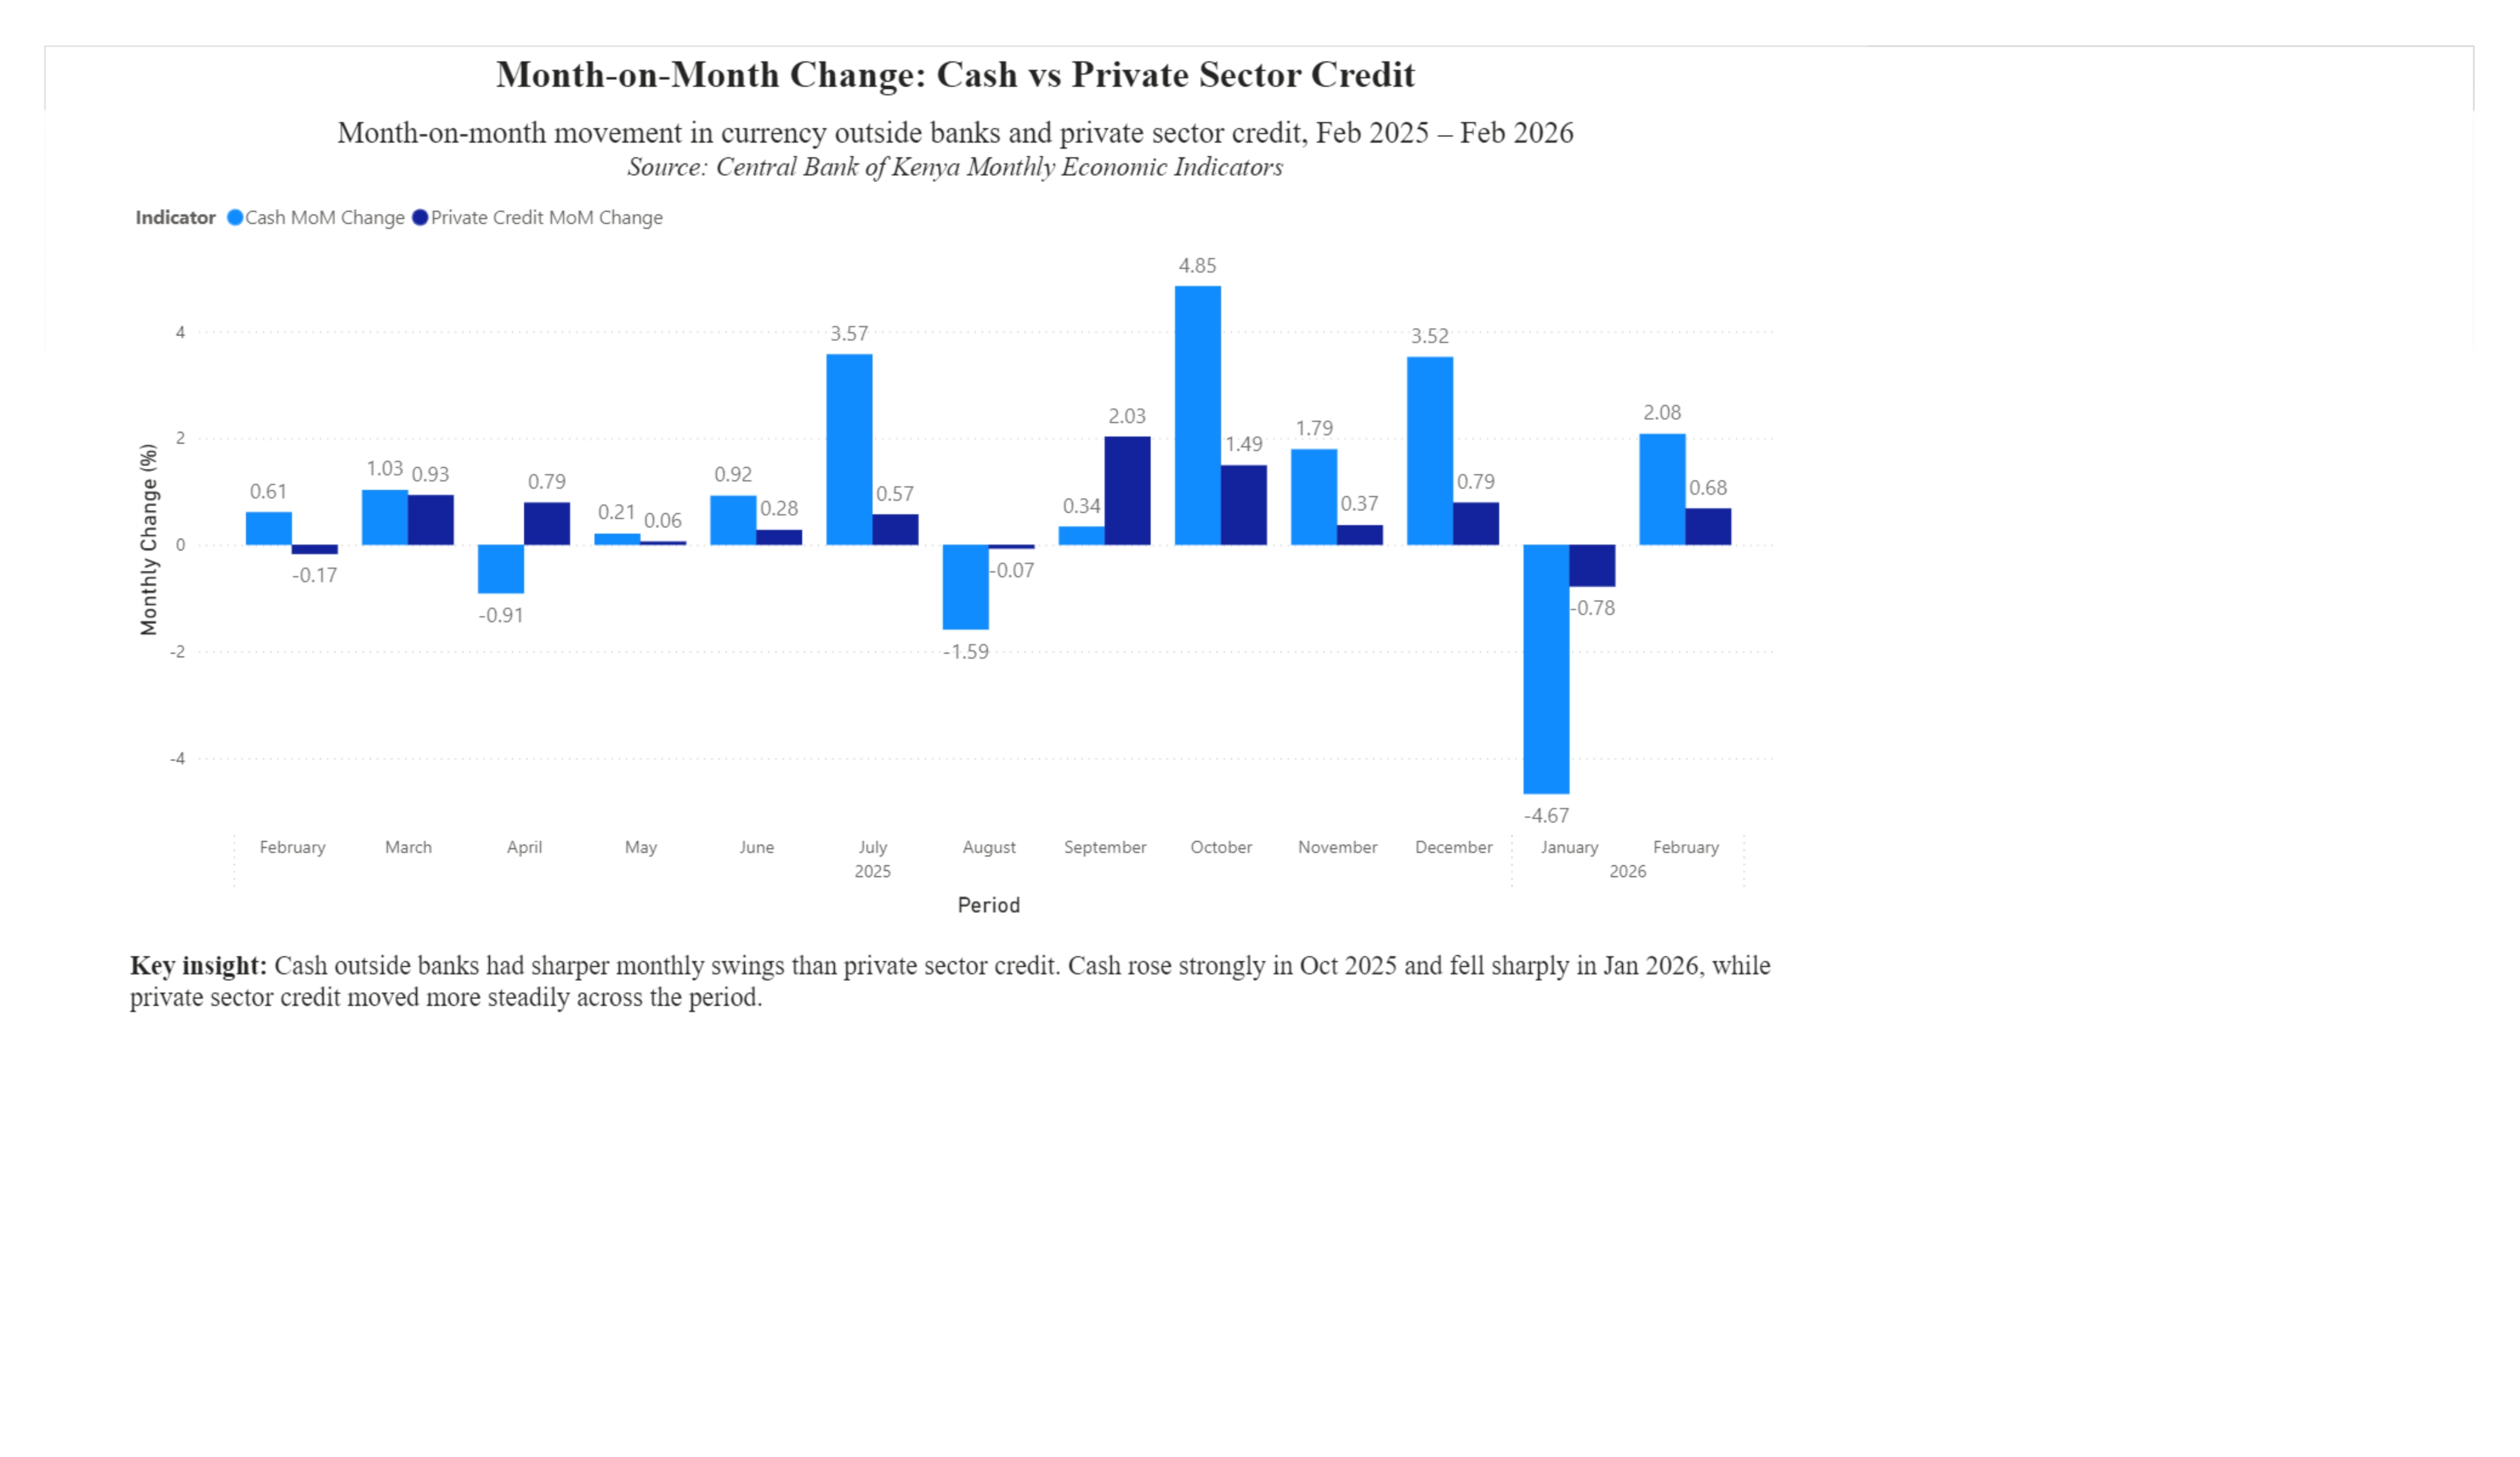

This screenshot's page, from the dashboard's own definition file:
{"tool":"powerbi","page":{"name":"Monthly Change Analysis","canvas":[1280,720],"ordinal":4},"visuals":[{"type":"textbox","box":[0,0,1280,61.4],"z":0},{"type":"textbox","box":[0,44.3,1280,87.1],"z":1000},{"type":"clusteredColumnChart","fields":{"Category":["PowerBI_Data.Date.Variation.Date Hierarchy.Year","PowerBI_Data.Date.Variation.Date Hierarchy.Month"],"Y":["Sum(PowerBI_Data.Value)"],"Series":["PowerBI_Data.Indicator"]},"box":[38.6,98.6,1225.7,531.4],"z":2000},{"type":"textbox","box":[54.3,630,1194.3,90],"z":3000}]}

Visuals, with their boxes on the page's 1280x720 design canvas (x1, y1, x2, y2). These are canvas units, not pixel positions in the 2520x1457 screenshot, which may show the page scaled, cropped or inside an application window:
textbox: crop(0, 0, 1280, 61)
textbox: crop(0, 44, 1280, 131)
clusteredColumnChart - PowerBI_Data.Date.Variation.Date Hierarchy.Year x PowerBI_Data.Date.Variation.Date Hierarchy.Month: crop(39, 99, 1264, 630)
textbox: crop(54, 630, 1249, 720)
